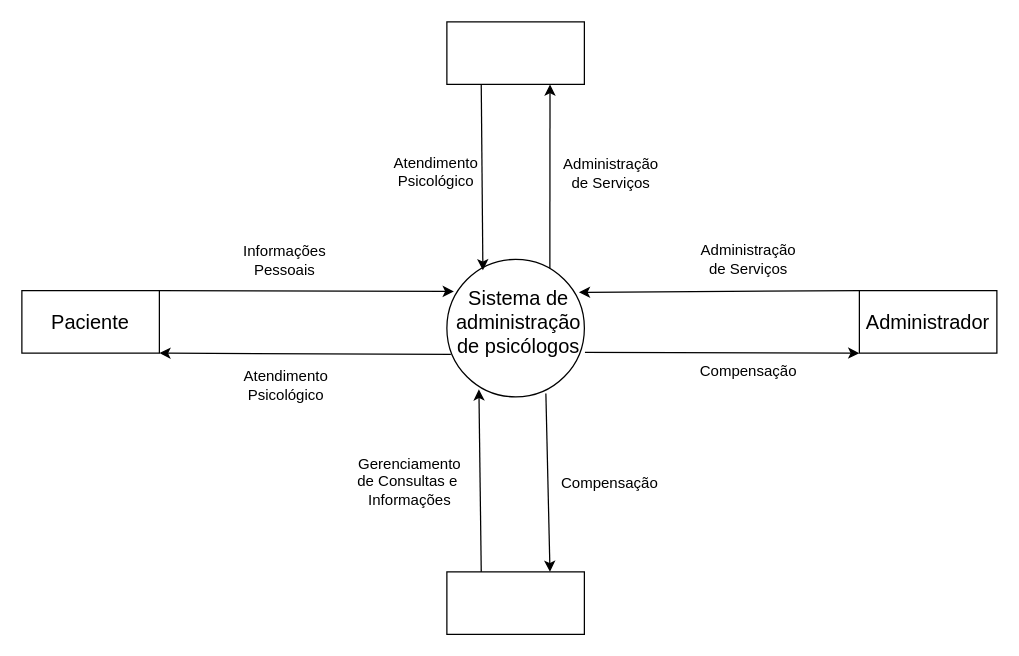
Image size: 1019x656. Some labels were removed from this diagram. Here are the shapes that lost their labels. From the top down, the centre of each, then its label:
At (515,52): "Psicólogo".
At (515,602): "Atendente".
